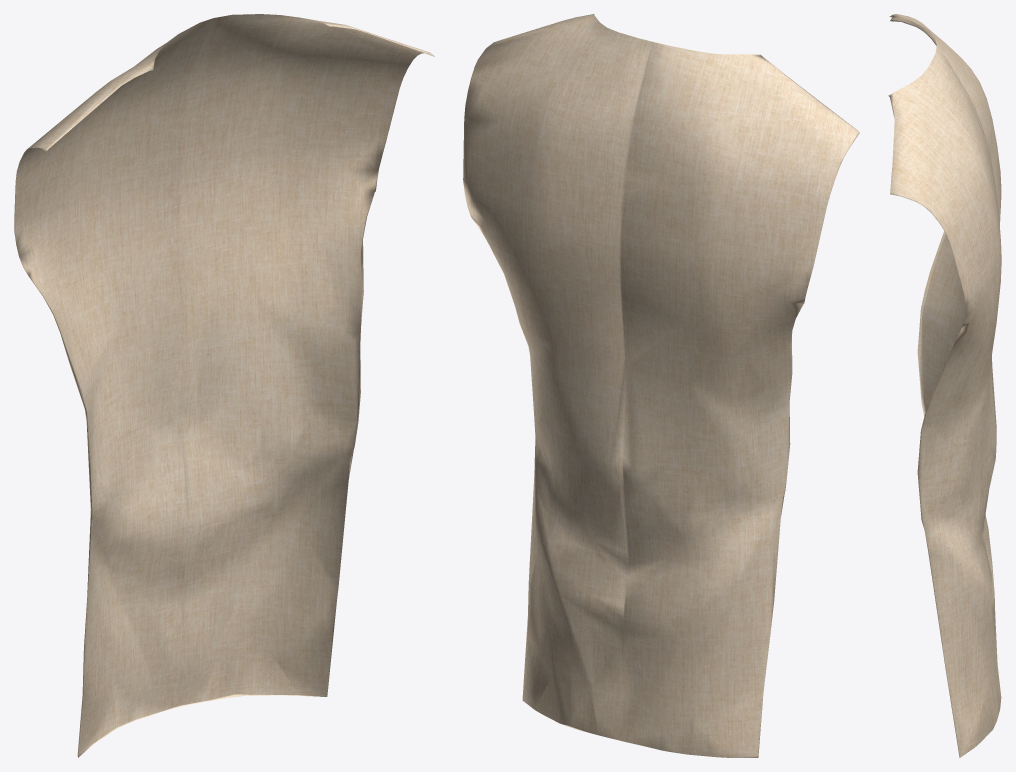
The model's file is double_vent.glb.
The picture shows the model from 3 angles, left to right: view 1: azimuth 30°, elevation 25°; view 2: azimuth 150°, elevation 25°; view 3: azimuth 270°, elevation 25°; orthographic projection. The views are drawn at different scales.
Parts seen in each view (by area): view 1: Double_vent; view 2: Double_vent; view 3: Double_vent.
Part boxes in pixels (left/top/right/bottom): Double_vent: left=14, top=14, right=434, bottom=757; Double_vent: left=463, top=14, right=859, bottom=757; Double_vent: left=888, top=14, right=1001, bottom=757.
Size of the model in its own units: 0.0591 by 0.1035 by 0.0162.
Materials: 1 (1 with a texture image).
